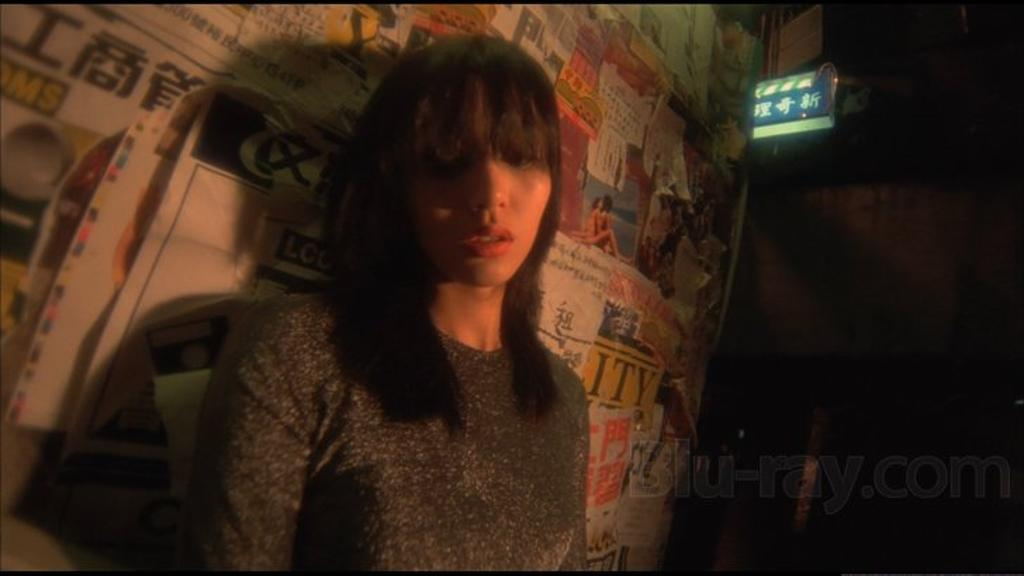face: (426, 102, 548, 280)
